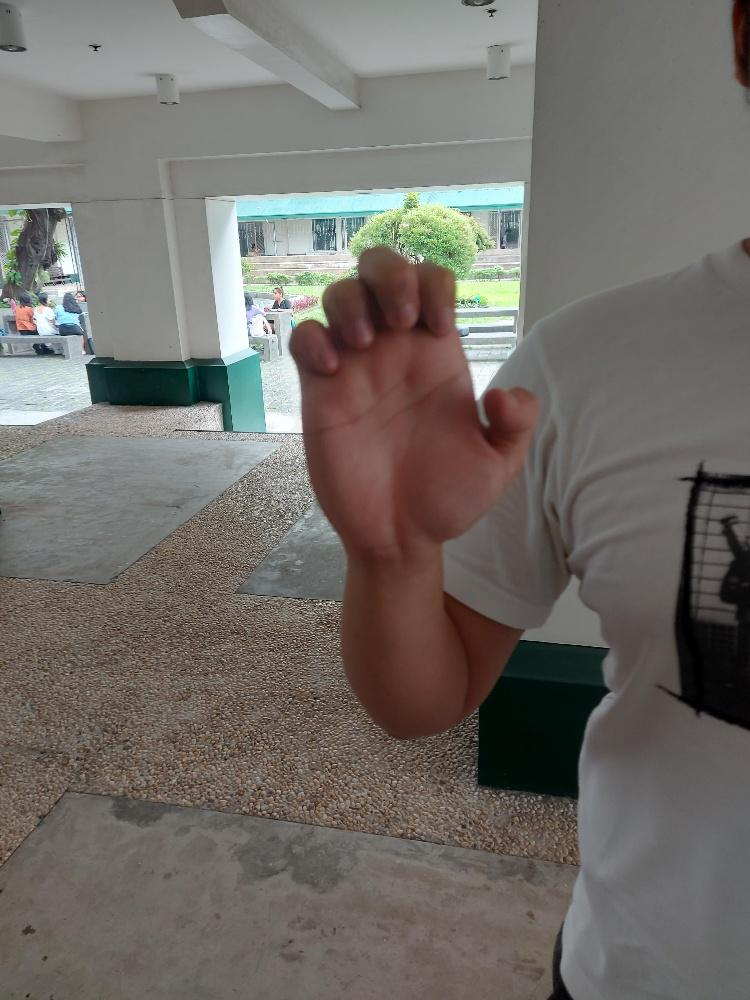e: (286, 243, 540, 561)
